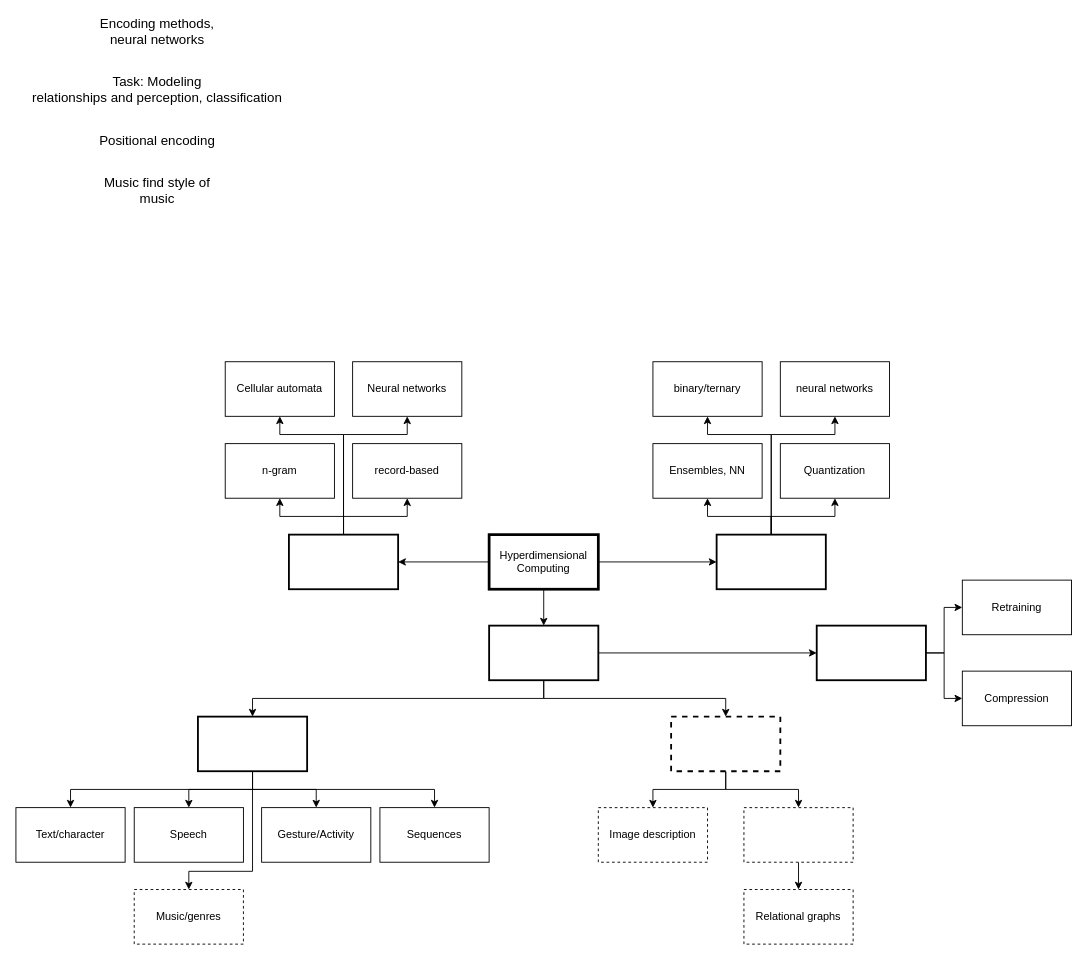
Image size: 1087x960. Some labels were removed from this diagram. The box of each missing label's shape, as (x1, y1, x2, y2) in pixels:
Answer questions: (743, 807, 853, 862)
Architectures: (715, 533, 826, 590)
Classification: (197, 715, 308, 772)
Encoding methods: (288, 533, 399, 590)
Model relationships: (670, 715, 781, 772)
Optimizations: (815, 624, 926, 681)
Tasks: (488, 624, 599, 681)
